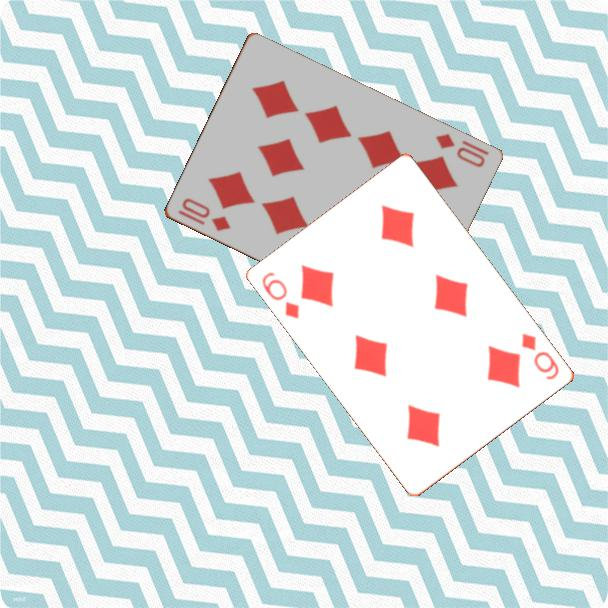d06: (259, 268, 303, 322), (518, 330, 562, 383)
d10: (431, 130, 492, 170), (174, 195, 233, 235)
